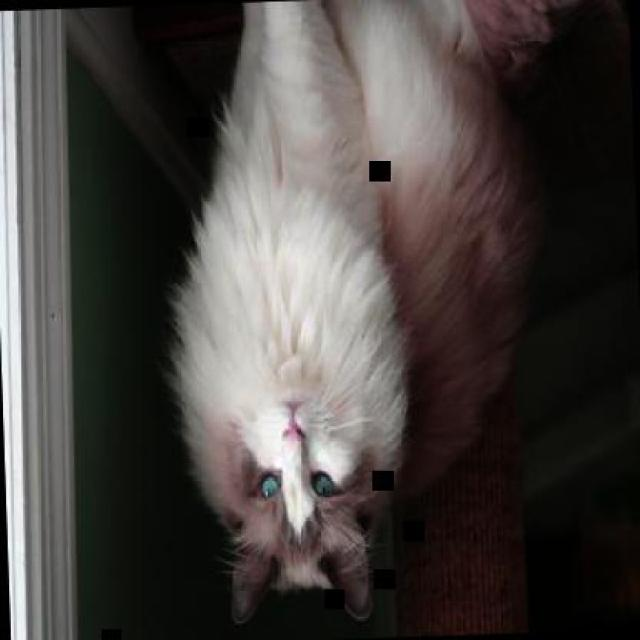cat: (164, 0, 638, 631)
